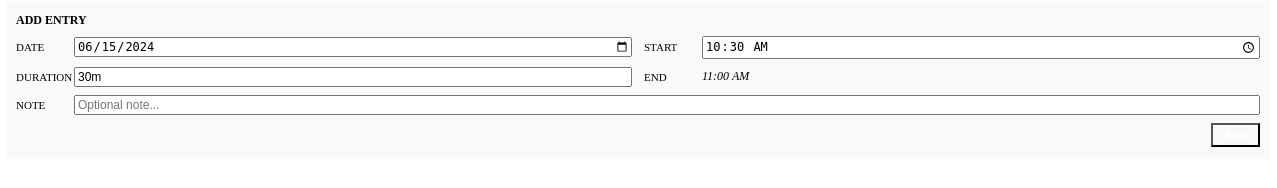
Scenario: TimeEntryEditor - Create Mode › validates invalid duration in create mode
The width and height of the screenshot is (1277, 188).
Replace the text in the field with test id "entry-duration" with "xyz": (353, 77) [74,67,632,87]
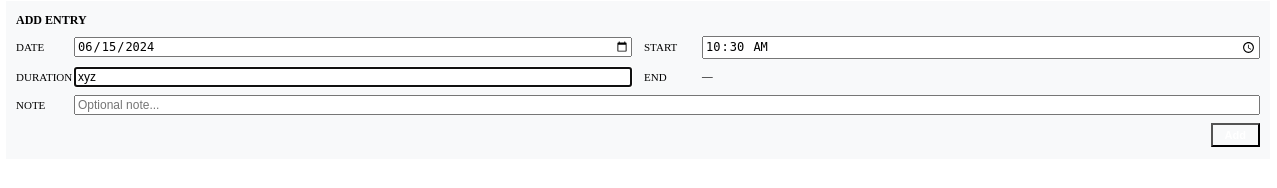
Click the button "Add": (1235, 135) [1211,123,1260,147]
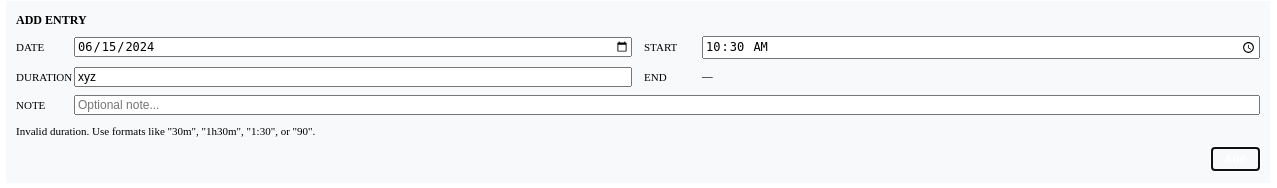
Now the text "Invalid duration" is shown, box [16,125,315,137]
